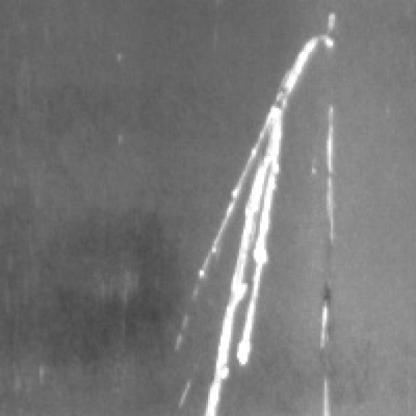scratches: (183, 33, 316, 410), (312, 94, 339, 282), (312, 289, 333, 414)
